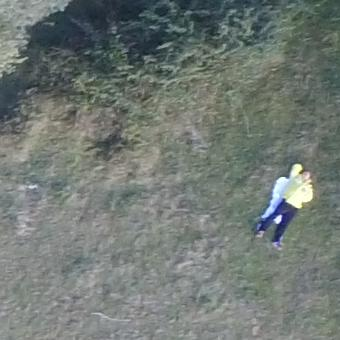human: (255, 168, 315, 248)
